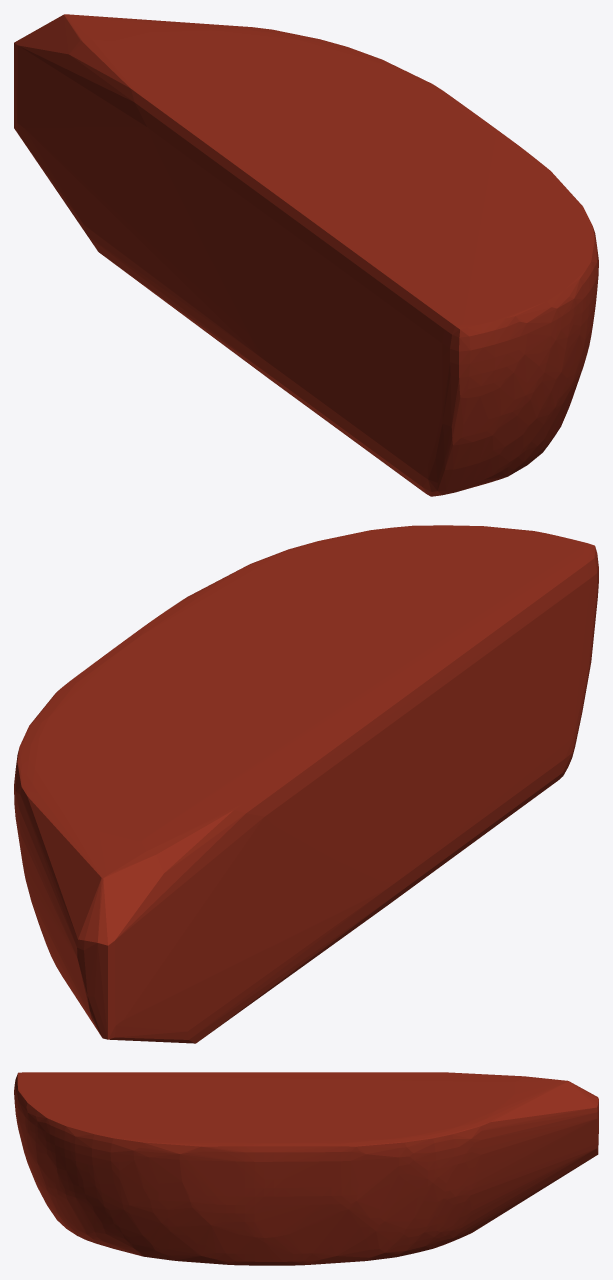
Rendered from right-hip-roll-0_part_15.obj.
The picture shows the model from 3 angles, top to bottom: view 1: azimuth 30°, elevation 25°; view 2: azimuth 150°, elevation 25°; view 3: azimuth 270°, elevation 25°; orthographic projection. The views are drawn at different scales.
Size of the model in its own units: 0.0268 by 0.02 by 0.0853.
